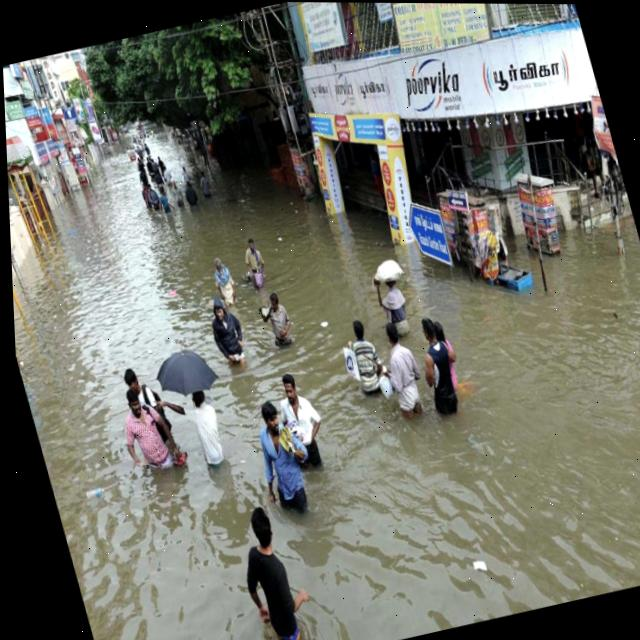civilian: (218, 491, 325, 640), (242, 396, 317, 531), (156, 386, 235, 487), (112, 379, 185, 482), (413, 309, 474, 427), (269, 369, 335, 476), (377, 315, 432, 433), (114, 359, 179, 448), (336, 308, 392, 407), (423, 301, 469, 397), (370, 256, 415, 341), (204, 291, 251, 366), (251, 281, 298, 350), (203, 245, 246, 317), (237, 235, 273, 294), (193, 162, 216, 207), (168, 177, 192, 220), (153, 184, 178, 223), (142, 179, 165, 217), (181, 178, 204, 213), (136, 182, 151, 212), (153, 147, 169, 173), (176, 157, 192, 180), (136, 168, 151, 191), (158, 161, 173, 182), (151, 167, 164, 190), (135, 156, 148, 174), (148, 155, 160, 173), (123, 145, 134, 164), (144, 156, 154, 175), (126, 142, 136, 158), (143, 140, 152, 156), (135, 142, 143, 157), (137, 139, 143, 152)
